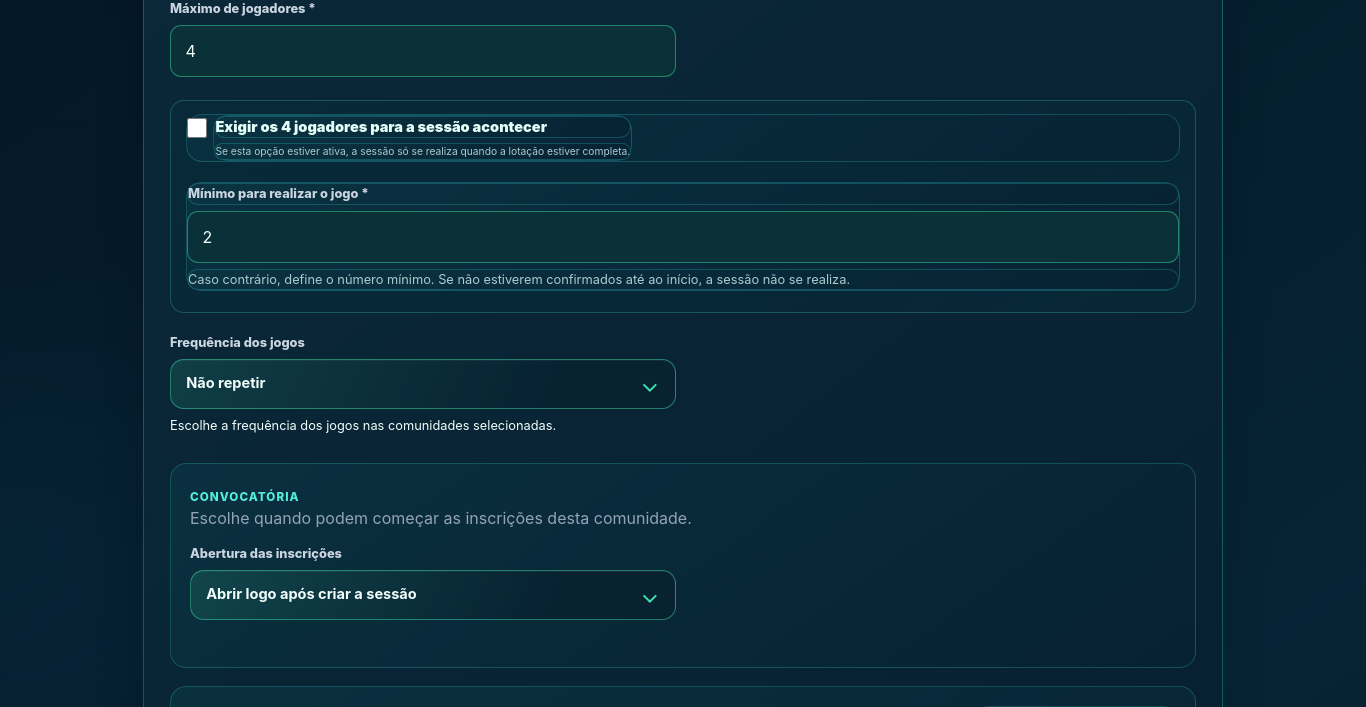
Test case: Events2Component › lets the organiser choose game frequency through the premium selector
The image size is (1366, 707).
(page scrolled)
Click the dropdown labelled "Não repetir ⌄" at (226, 383), box [170,359,676,409]
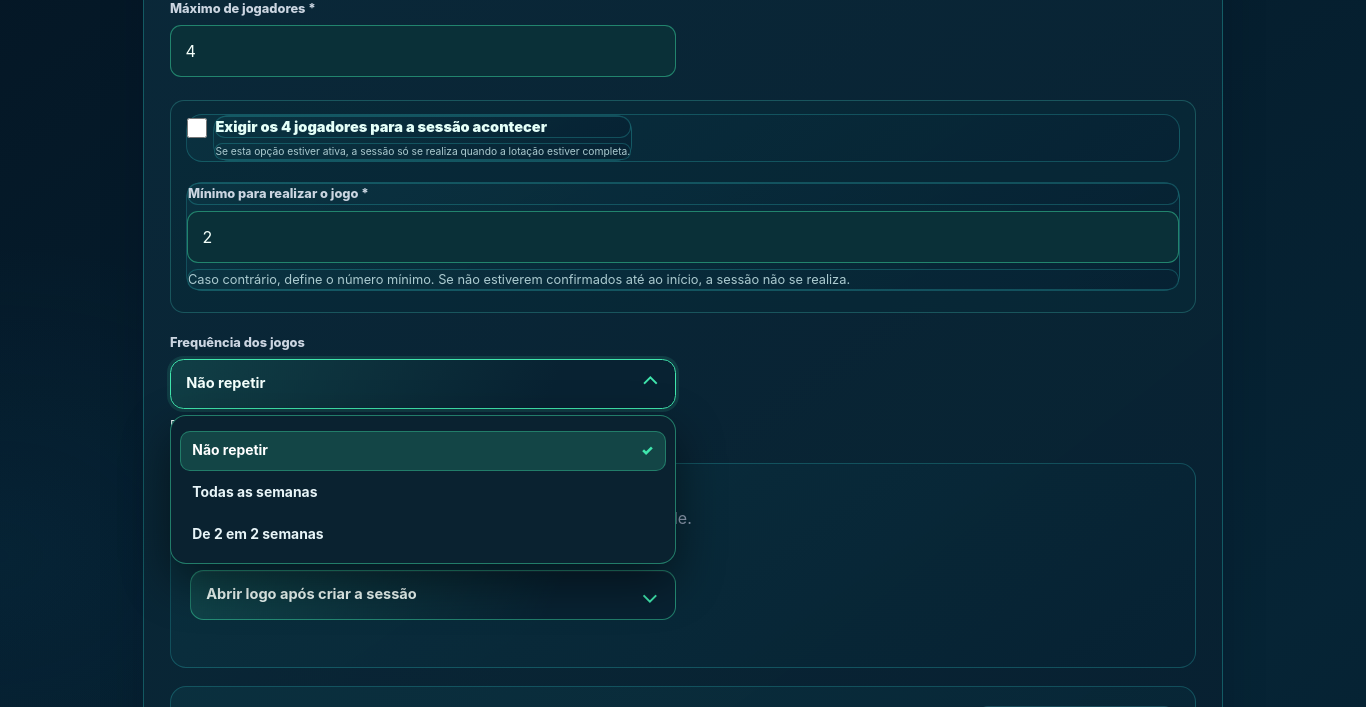
Check: the number of options is 3
Check: the option "Todas as semanas" is shown
Click the option "Todas as semanas" at (255, 492), box [180,472,666,512]
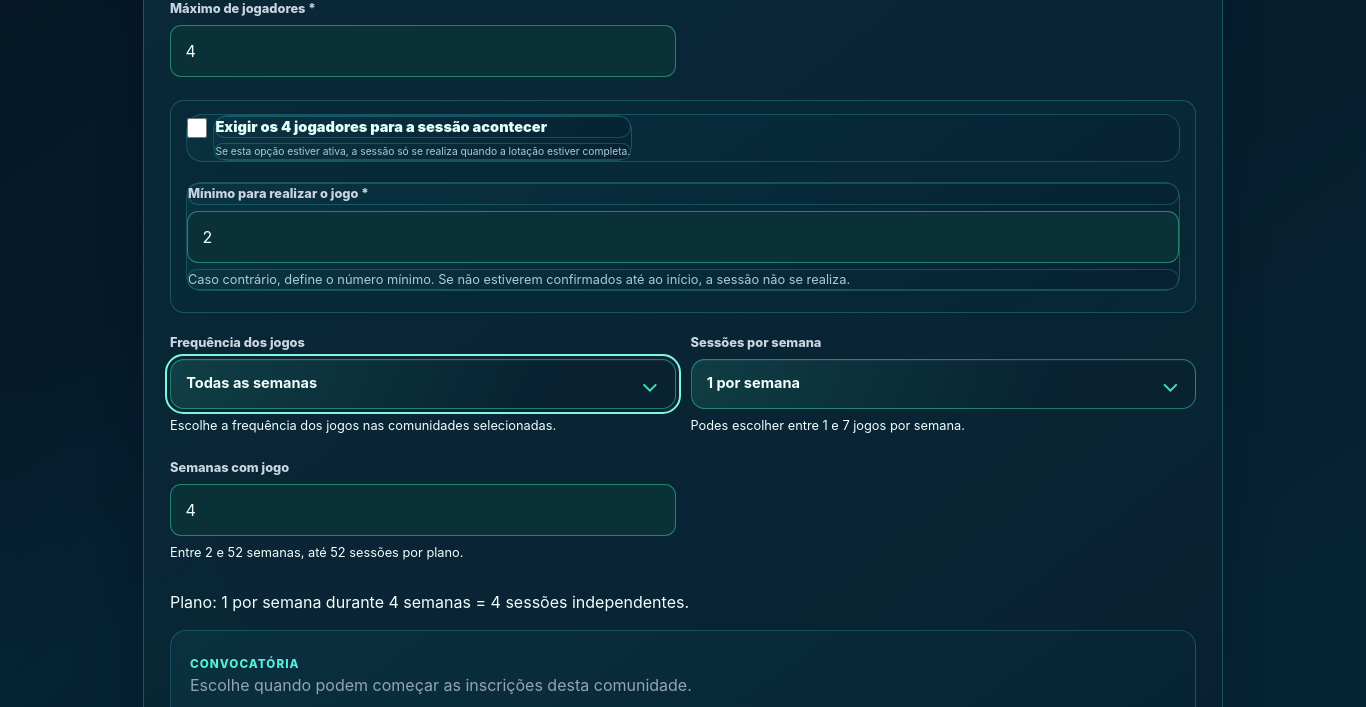
Check: the text with class "jynlo-select__value" reads "Todas as semanas", box [186,374,317,392]
Check: the number field named "recurrenceOccurrences" is shown, box [170,484,676,536]
